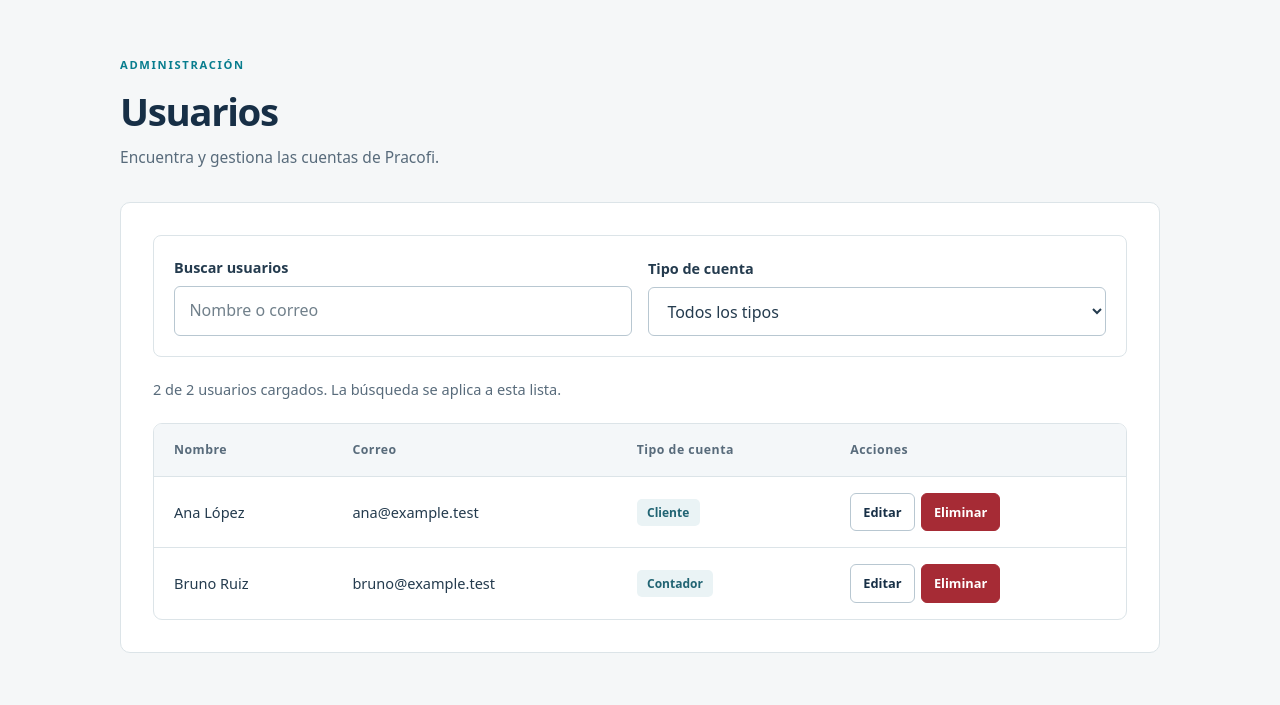
Scenario: user administration › keeps a row on rejected deletion and allows a deliberate retry
Click the button with aria-label "Eliminar a Ana López": {"x": 961, "y": 512} [921,493,1000,532]
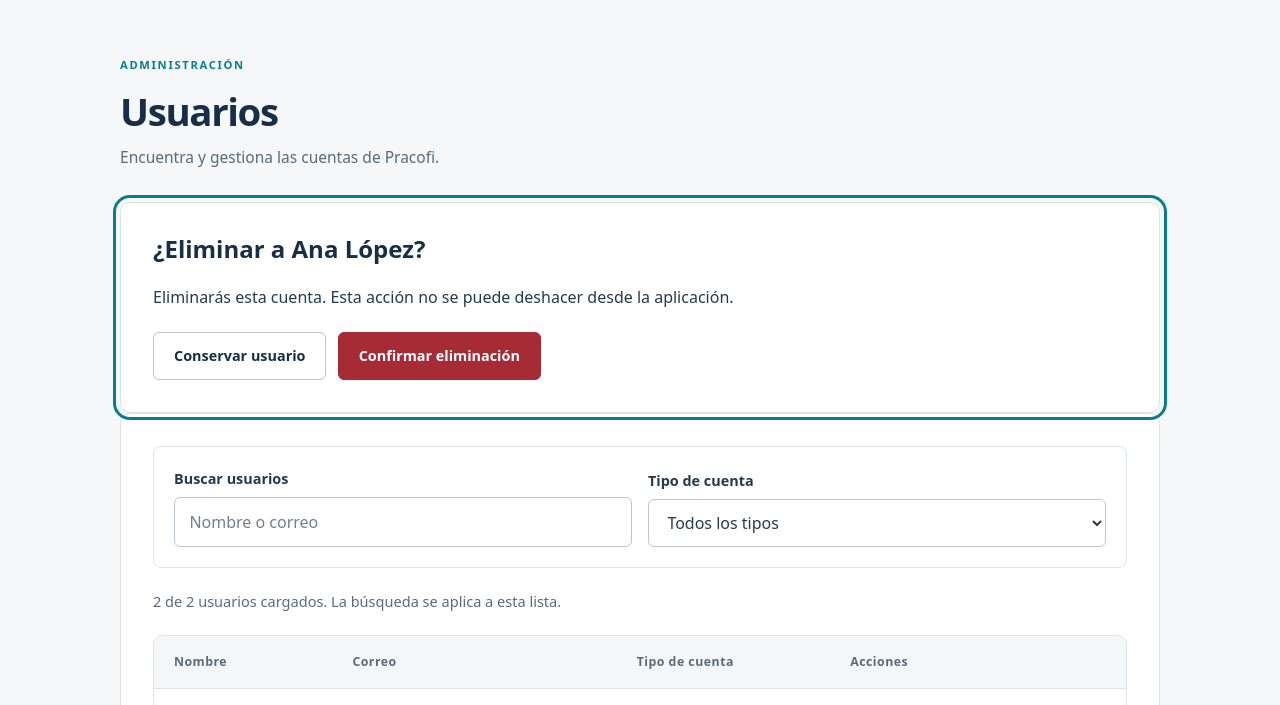
Click the button "Confirmar eliminación": {"x": 439, "y": 356} [338,332,541,380]
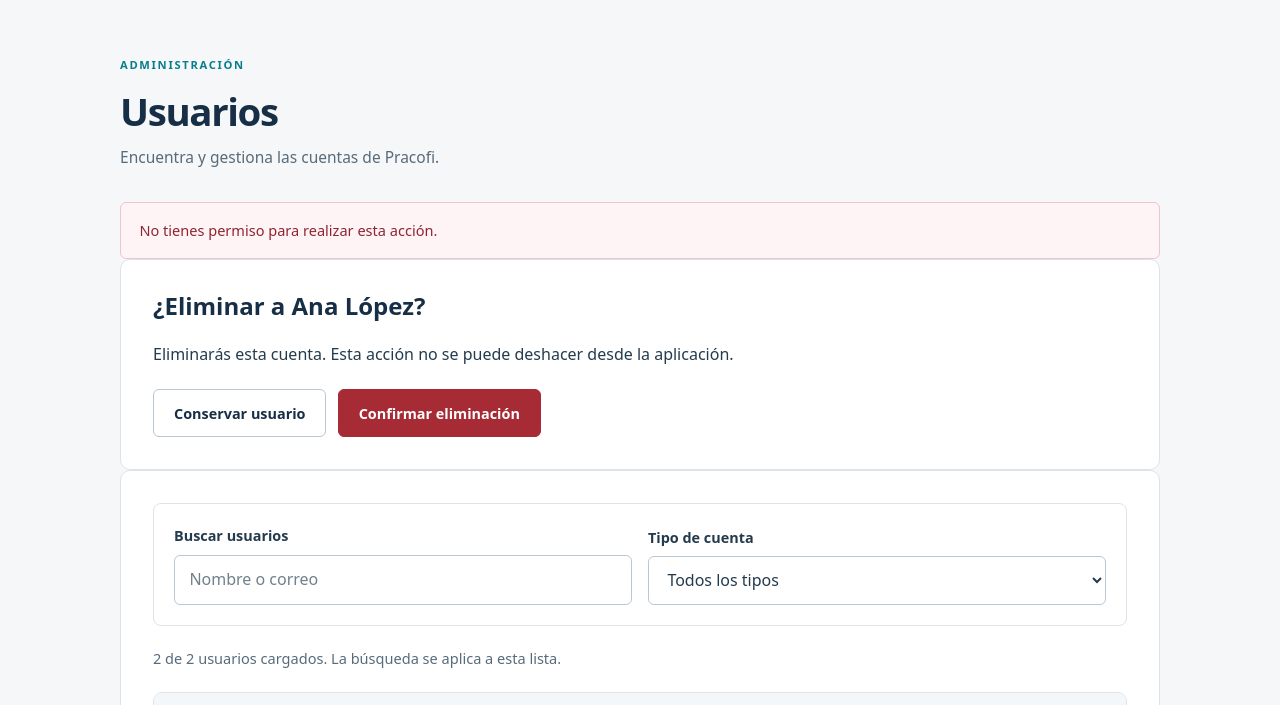
Result: the message shows "No tienes permiso" at [139,220,437,240]
Click the button "Conservar usuario": {"x": 240, "y": 414} [153,390,326,438]
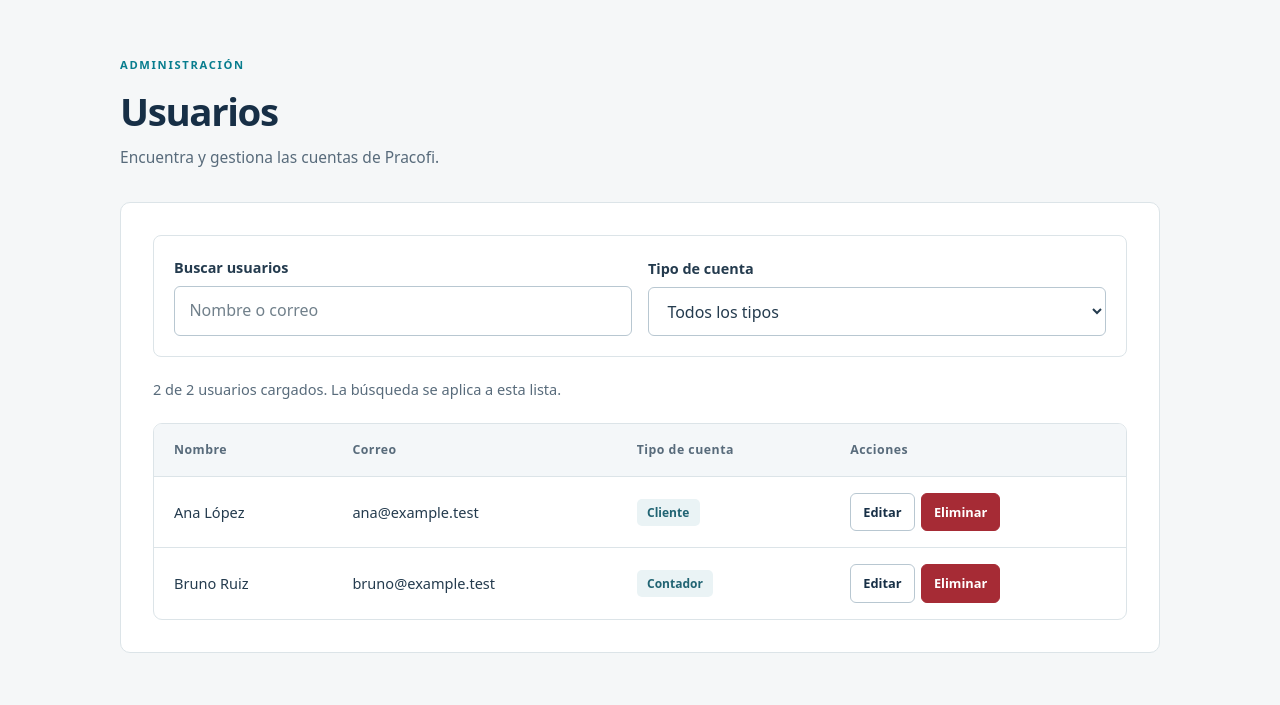
Result: the heading "¿Eliminar a Ana López?" is gone
